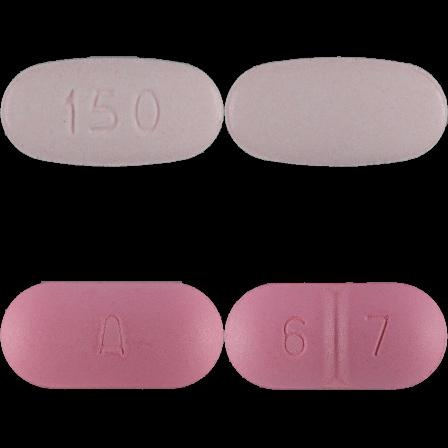33261-487: (0, 0, 224, 224)
